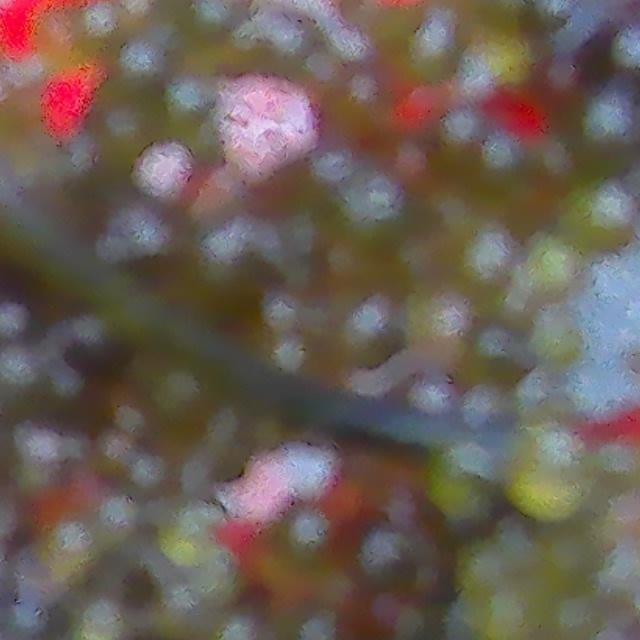SeaGrape: (576, 84, 640, 170), (334, 68, 394, 140), (572, 180, 636, 242), (430, 110, 489, 175), (473, 128, 525, 200)
